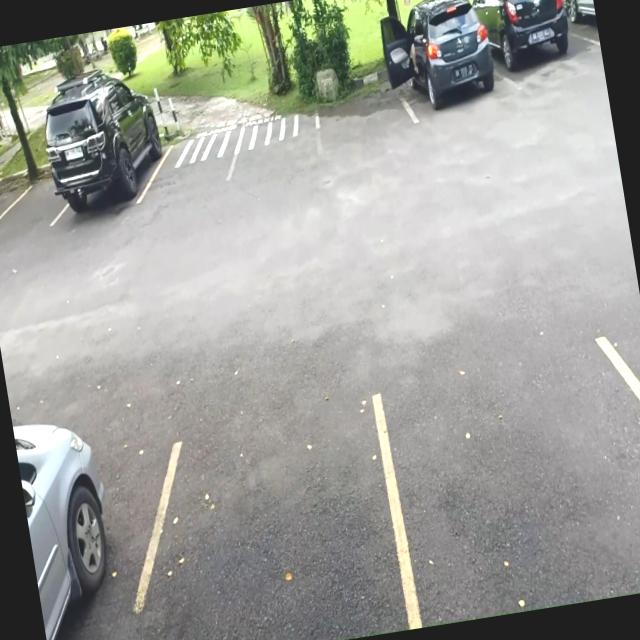car: (39, 92, 174, 228), (396, 3, 506, 122), (483, 0, 583, 93), (563, 0, 600, 51)
free: (370, 339, 640, 630), (144, 400, 418, 640), (0, 174, 68, 242)
